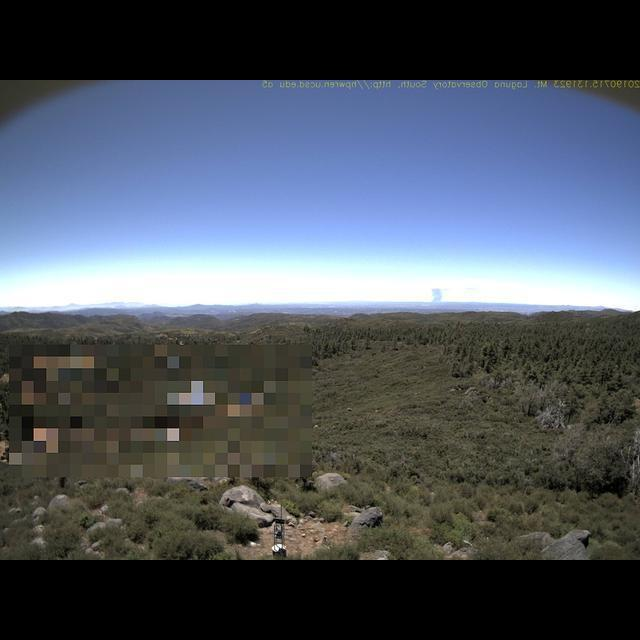Smoke: (428, 283, 446, 308)
